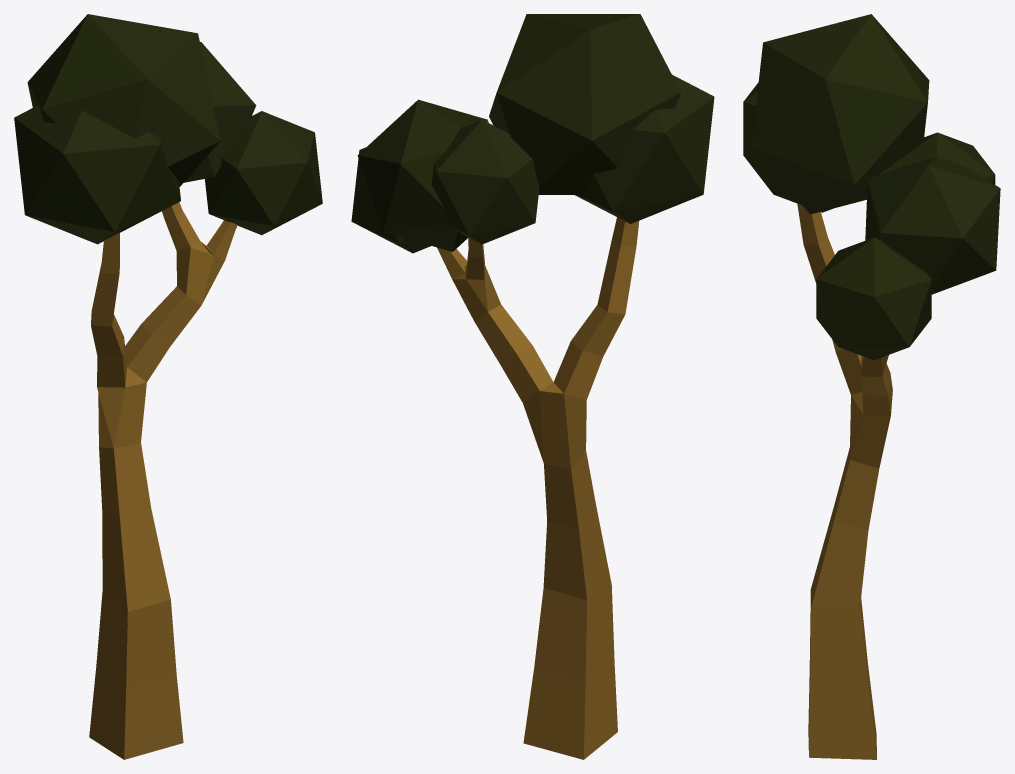
Rendered from Dark Small Tree.fbx.
The picture shows the model from 3 angles, left to right: view 1: azimuth 30°, elevation 25°; view 2: azimuth 150°, elevation 25°; view 3: azimuth 270°, elevation 25°; orthographic projection.
Parts seen in each view (by area): view 1: Small Tree; view 2: Small Tree; view 3: Small Tree.
Part boxes in pixels (x1=…): Small Tree: x1=14, y1=14, x2=322, y2=759; Small Tree: x1=351, y1=14, x2=714, y2=759; Small Tree: x1=743, y1=14, x2=1000, y2=759.
Bounding box in the file's own units: 334 × 733 × 238.
